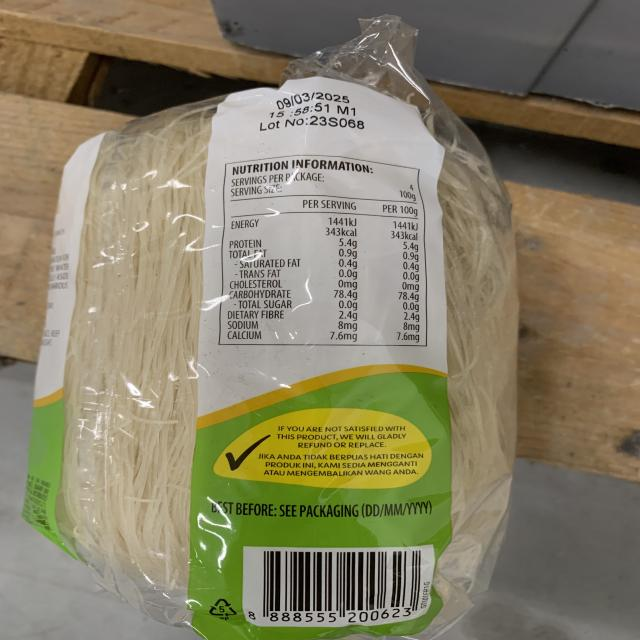object_name: (68, 121, 464, 626)
